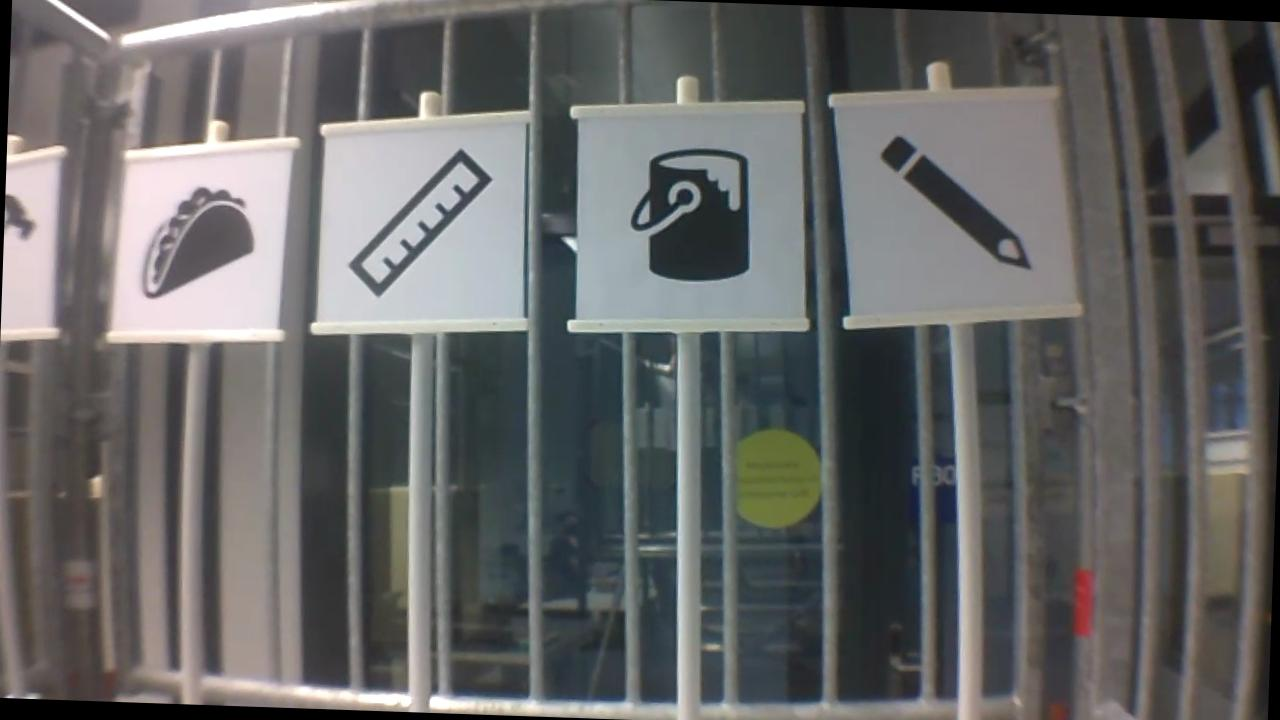bucket: (624, 142, 757, 287)
pencil: (868, 130, 1043, 276)
ruler: (341, 140, 498, 307)
taco: (135, 179, 261, 305)
